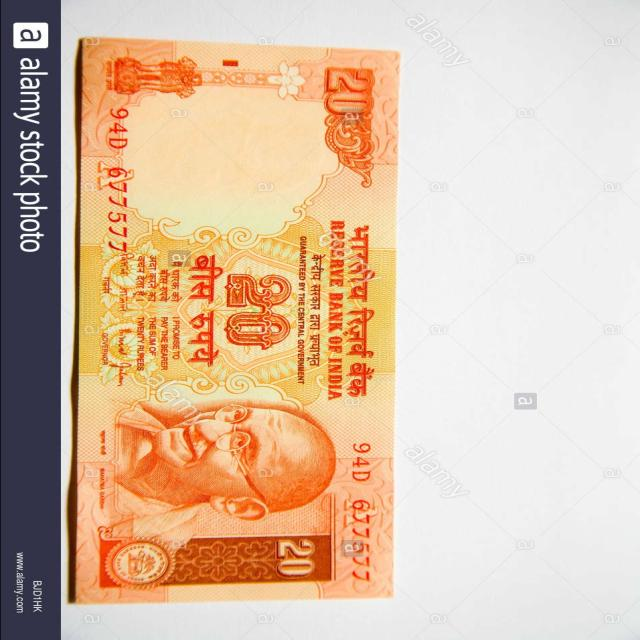20IndianRupees: (82, 49, 388, 603)
